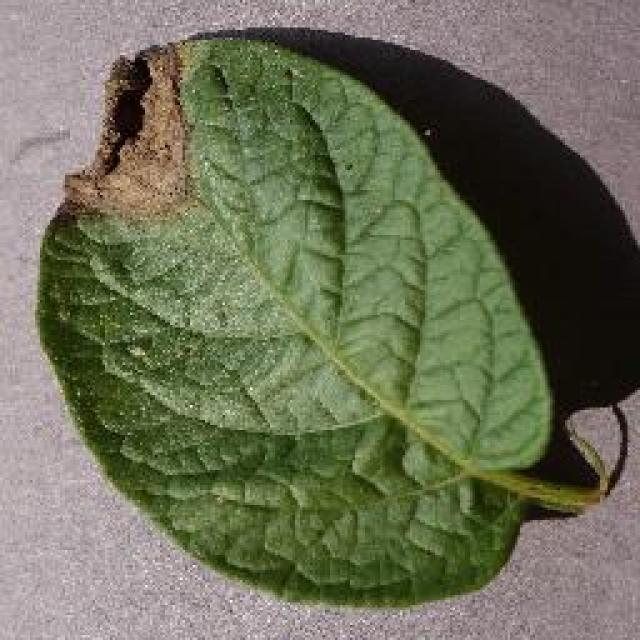Late_blight: (41, 32, 230, 240)
